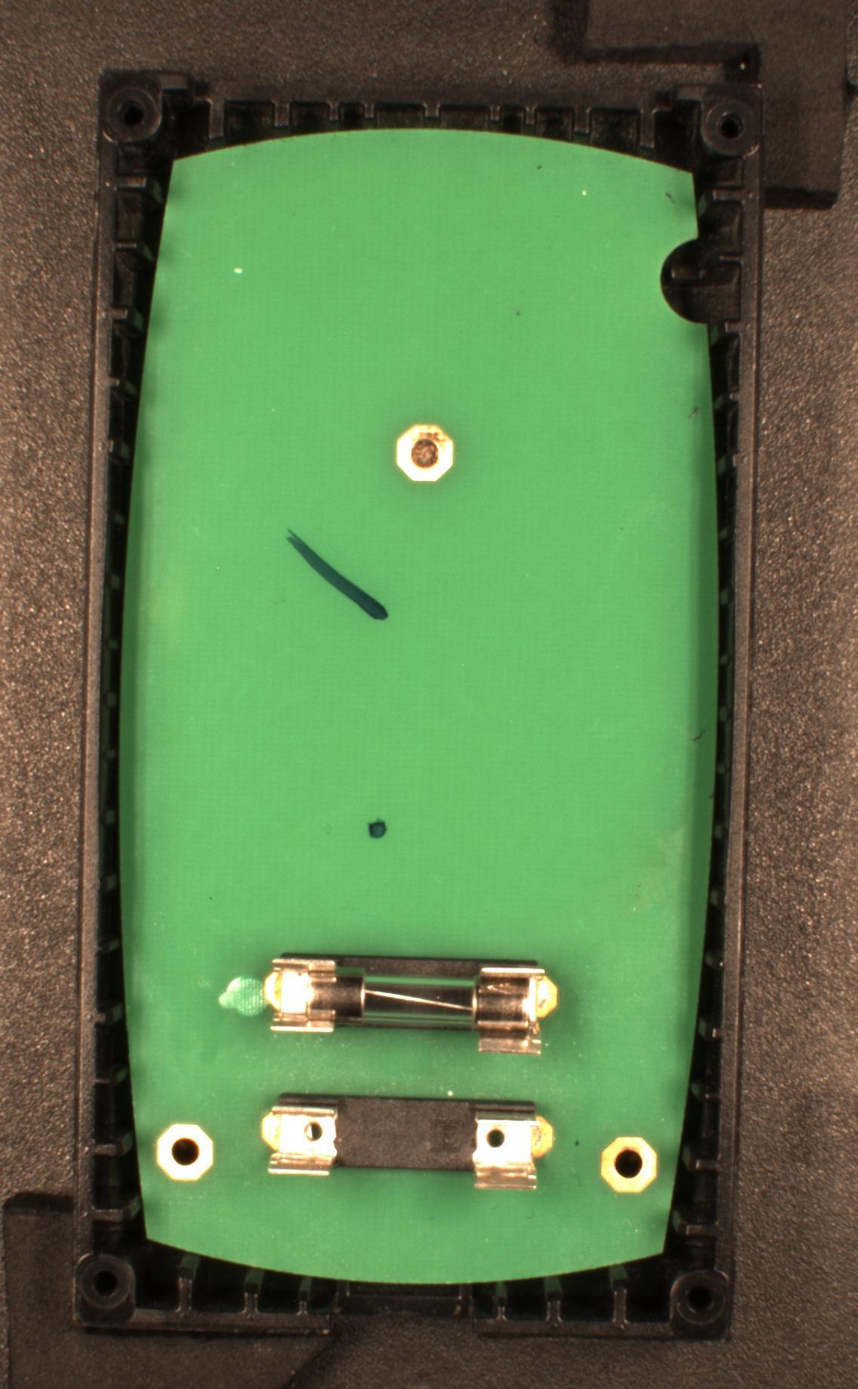Linijsko Ostecene: (284, 527, 390, 621)
Nepostojanje osiguraca: (260, 1090, 556, 1193)
Tockasto Ostecenje: (365, 818, 390, 840)
